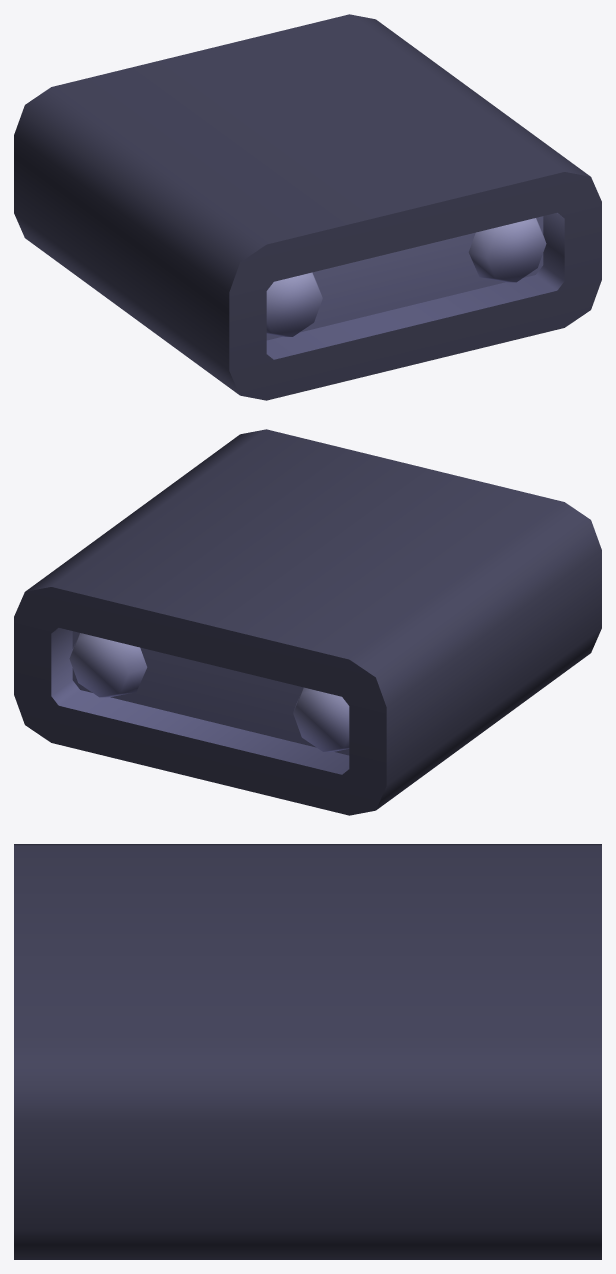
File: conveyor.glb
3 views of the same model, one above another, from view 1: azimuth 30°, elevation 25°; view 2: azimuth 150°, elevation 25°; view 3: azimuth 270°, elevation 25° (orthographic). The views are drawn at different scales.
Visible parts, largest first — view 1: conveyor; view 2: conveyor; view 3: conveyor.
Boxes of the visible parts, <box> form: conveyor: <box>14,14,601,400</box>; conveyor: <box>14,429,601,815</box>; conveyor: <box>14,844,601,1259</box>.
Size of the model in its own units: 1 by 0.4 by 1.
